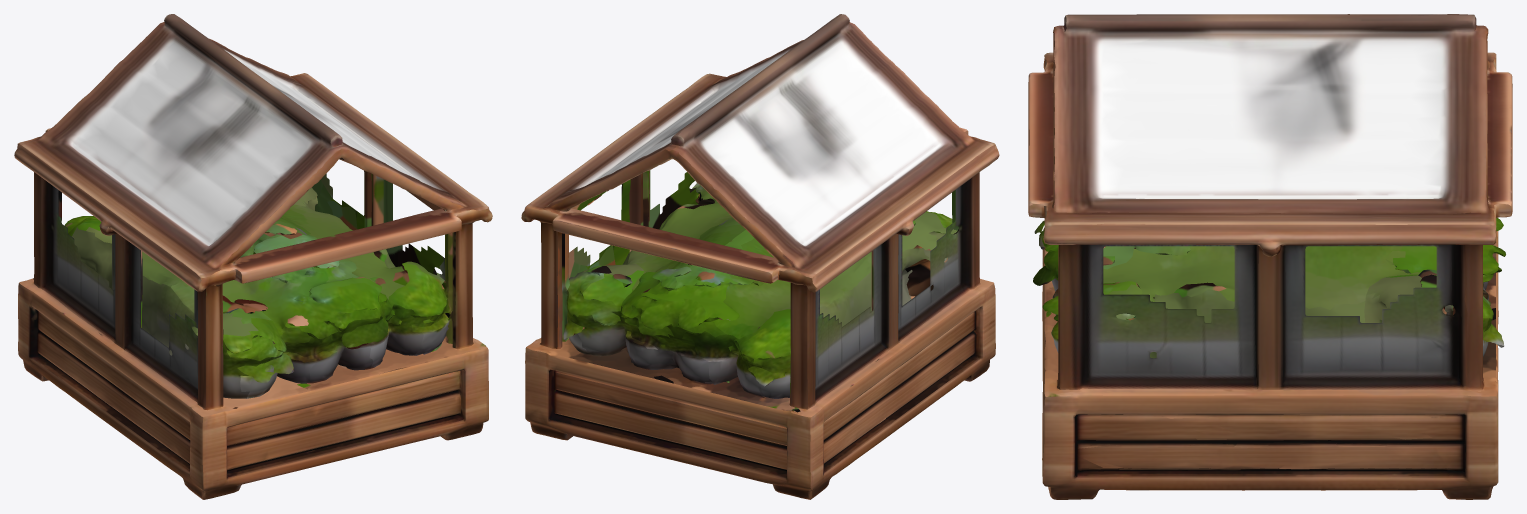
The model's file is invernadero.glb.
3 views of the same model, side by side, from view 1: azimuth 30°, elevation 25°; view 2: azimuth 150°, elevation 25°; view 3: azimuth 270°, elevation 25° (orthographic). The views are drawn at different scales.
Visible parts, largest first — view 1: tmpa_8pbbxc.ply; view 2: tmpa_8pbbxc.ply; view 3: tmpa_8pbbxc.ply.
Part boxes in pixels (left/top/right/bottom): tmpa_8pbbxc.ply: left=14, top=14, right=492, bottom=499; tmpa_8pbbxc.ply: left=521, top=14, right=999, bottom=499; tmpa_8pbbxc.ply: left=1028, top=14, right=1512, bottom=499.
Size of the model in its own units: 0.8845 by 0.9069 by 0.9887.
Materials: 1 (1 with a texture image).
